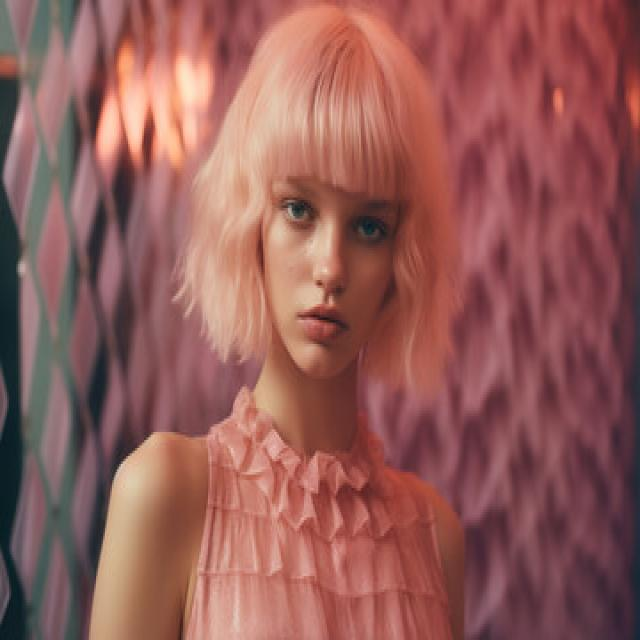person-without-mask: (87, 0, 509, 640)
